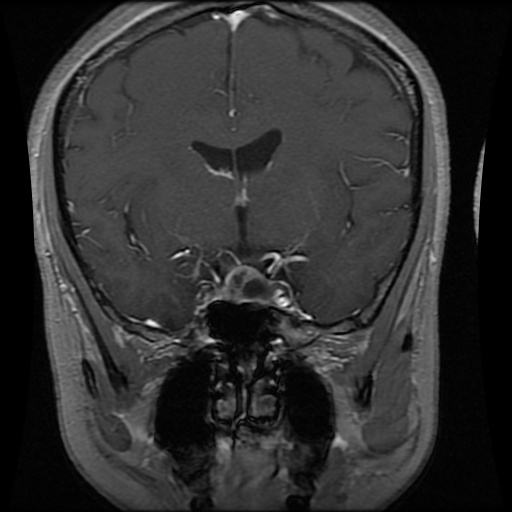pituitary: (206, 265, 293, 306)
